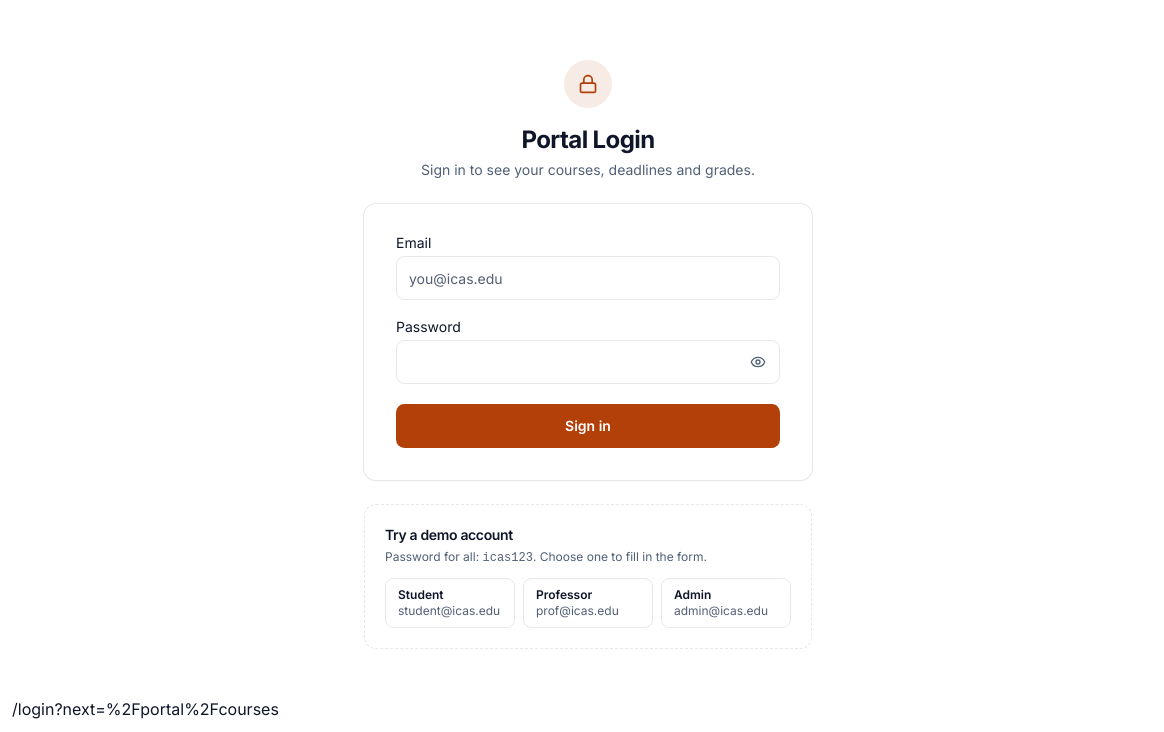
Test: portal login flow › signs in and returns to the requested page
This screenshot has width=1164, height=732.
Type "student@icas.edu" into the field labelled "Email".
click(588, 278); type("student@icas.edu")  # box [396,256,780,300]
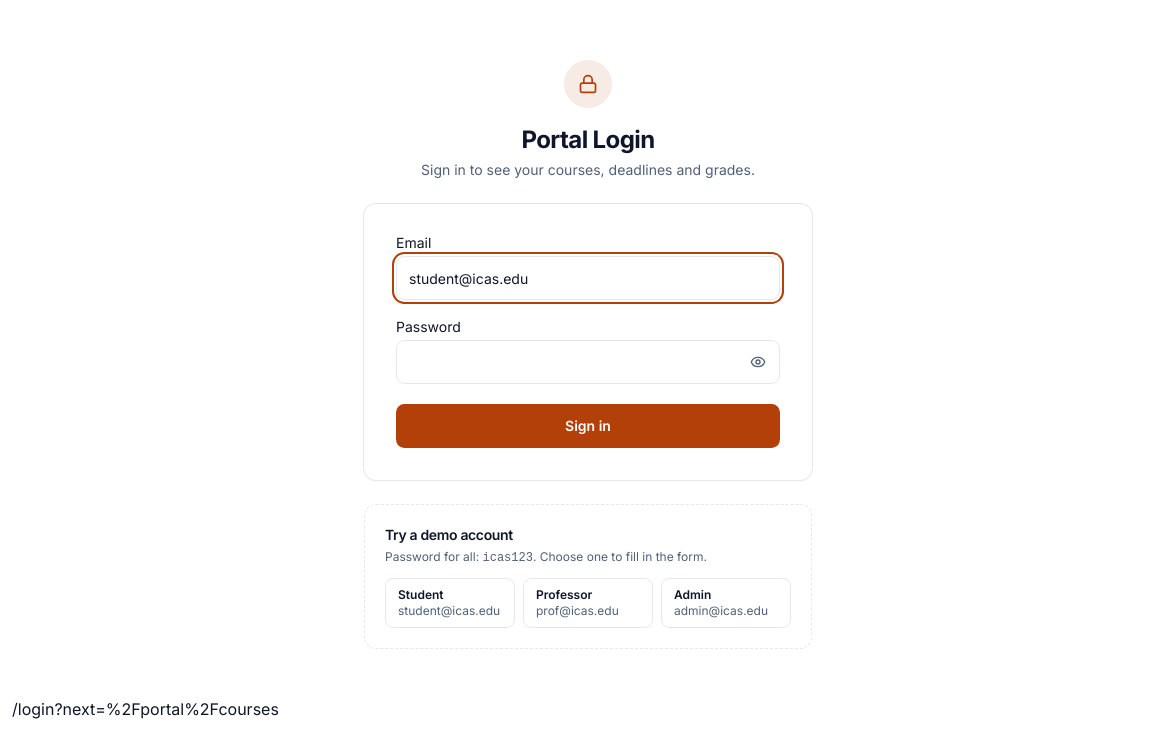
Type "icas123" into the password field labelled "Password".
click(588, 362); type("icas123")  # box [396,340,780,384]
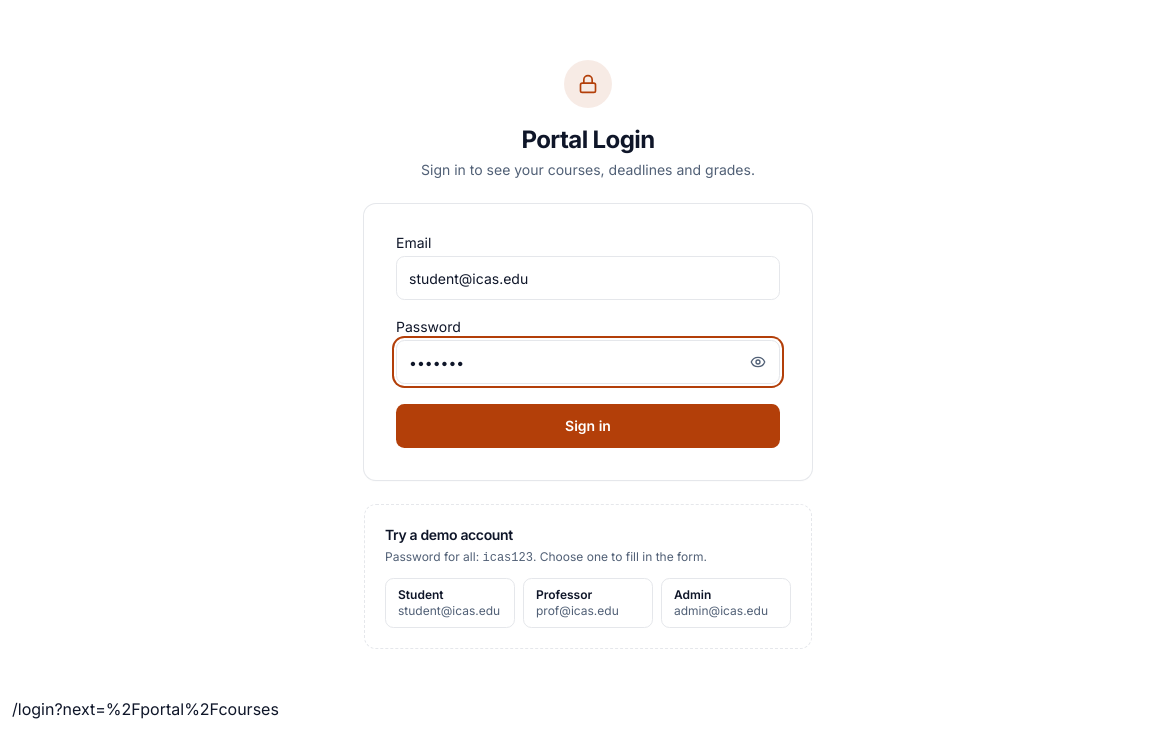
Click the button "Sign in".
click(588, 426)  # box [396,404,780,448]
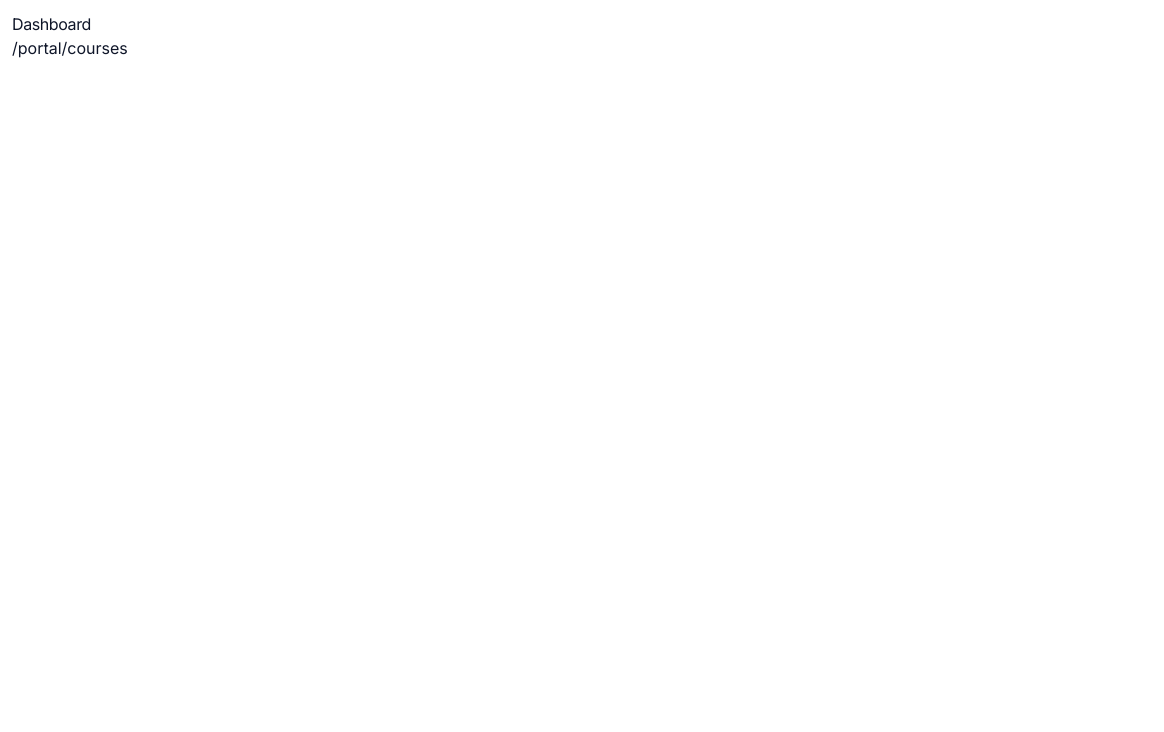
Check: the heading "Dashboard" is shown, box [12,14,91,34]
Check: the text with test id "location" reads "/portal/courses", box [12,38,128,58]
